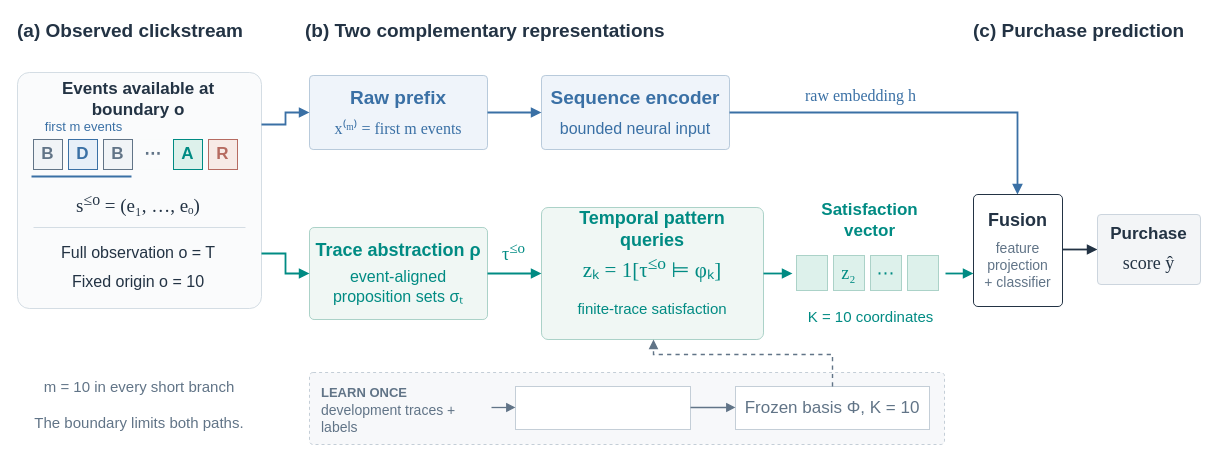
The diagram is 1221 pixels wide and 462 high, and some of its shapes have lost their labels. Here are the shapes that lost their labels. From the top down, the centre of each, then its label:
At pixel 812 272: "z₁".
At pixel 922 272: "z K".
At pixel 602 408: "Formula learner".
